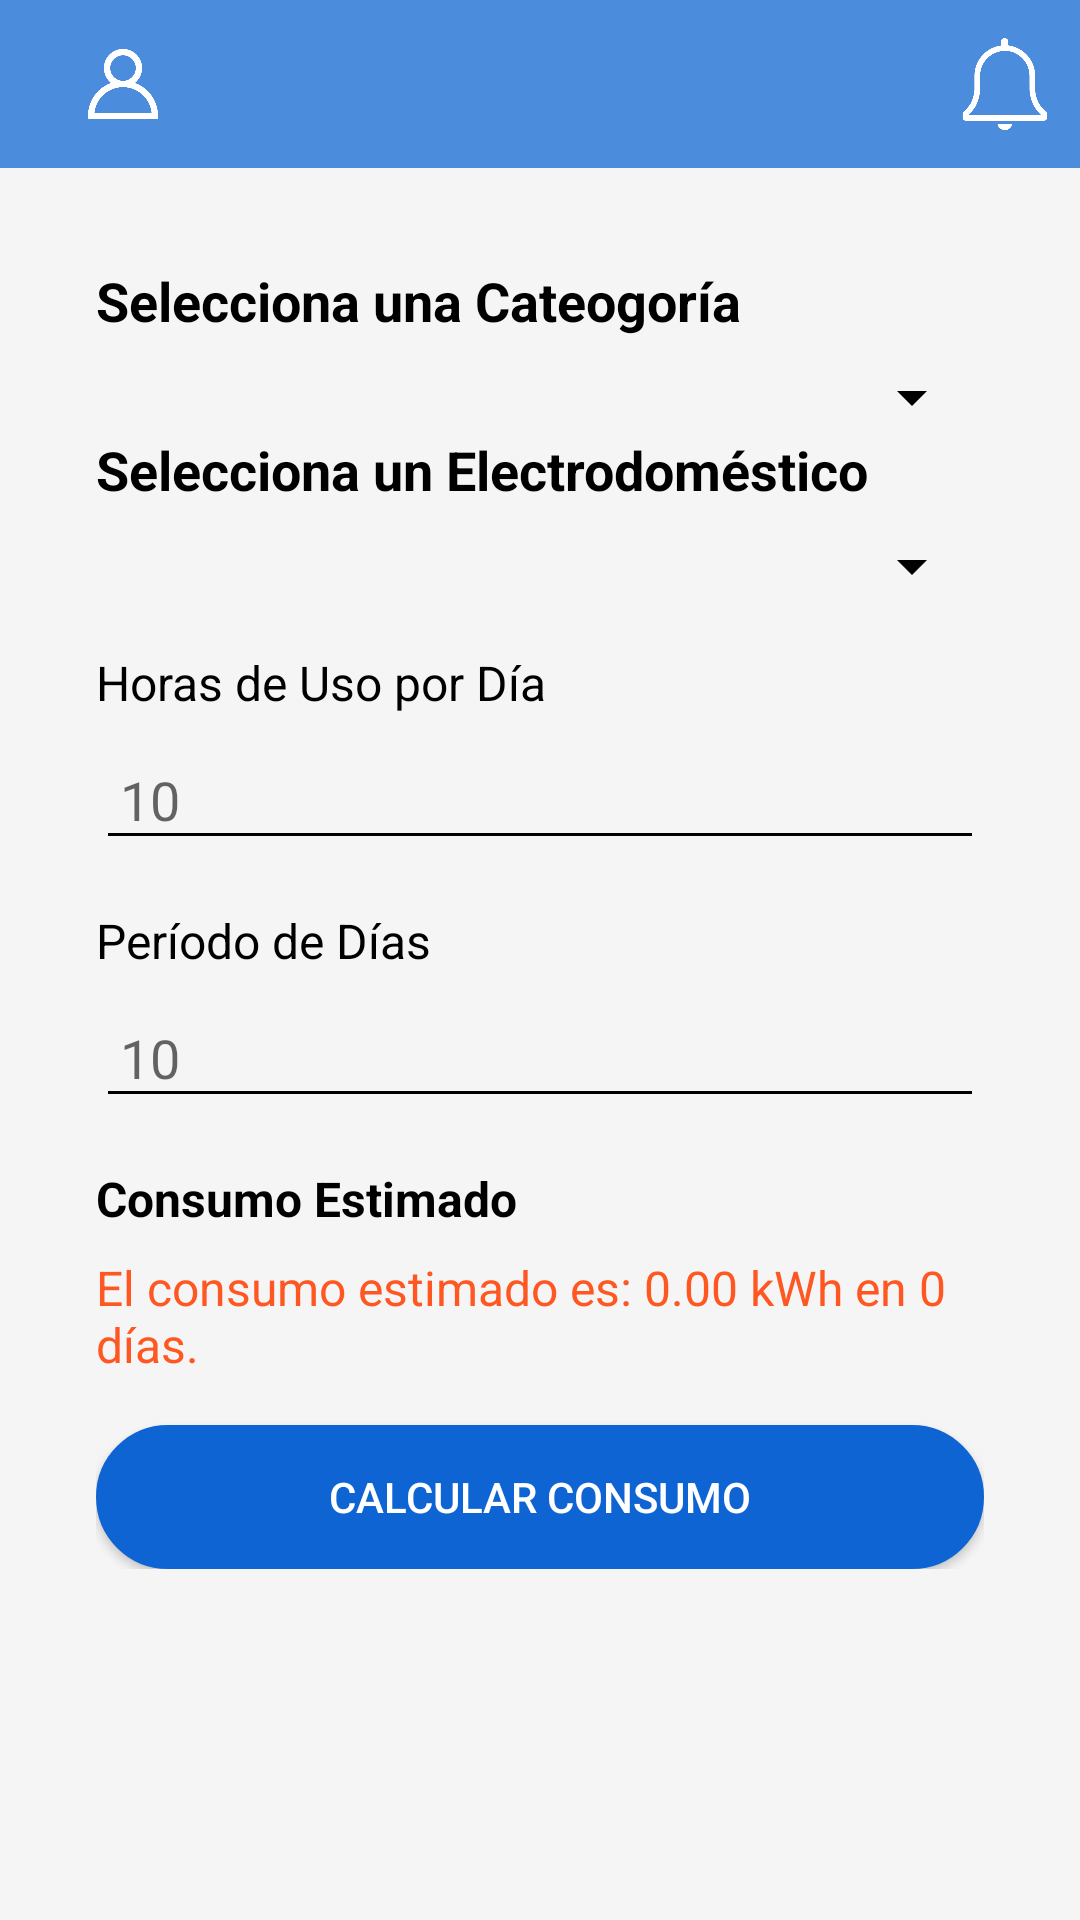

Icons on this 1080*1920 Android screen, each with the point to tap as (x=x, y=y):
Notification Icon: (x=1005, y=84)
User Icon: (x=123, y=84)
